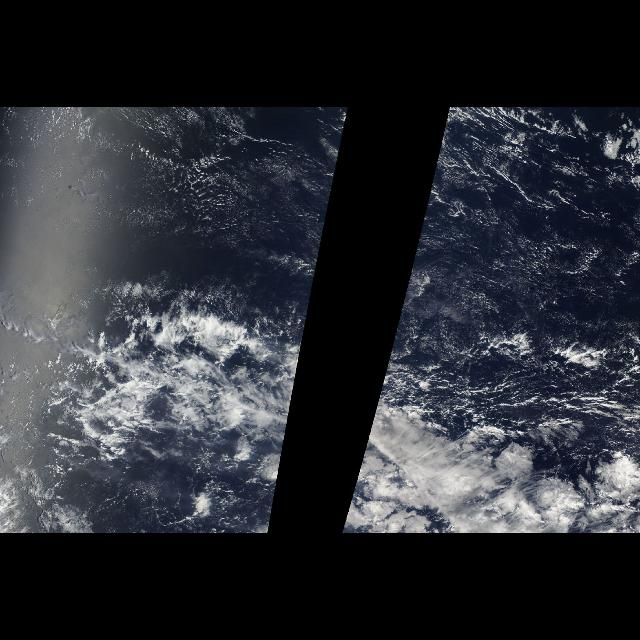Fish: (78, 310, 310, 510), (347, 310, 516, 510)
Sugar: (24, 109, 348, 328), (397, 112, 639, 370)
